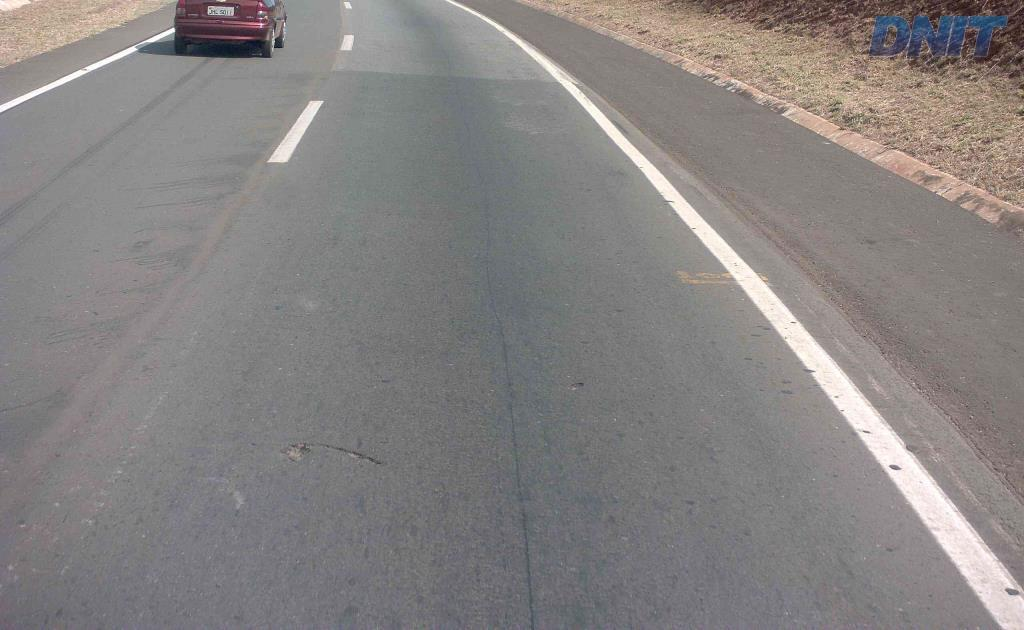pothole: (278, 432, 385, 472)
